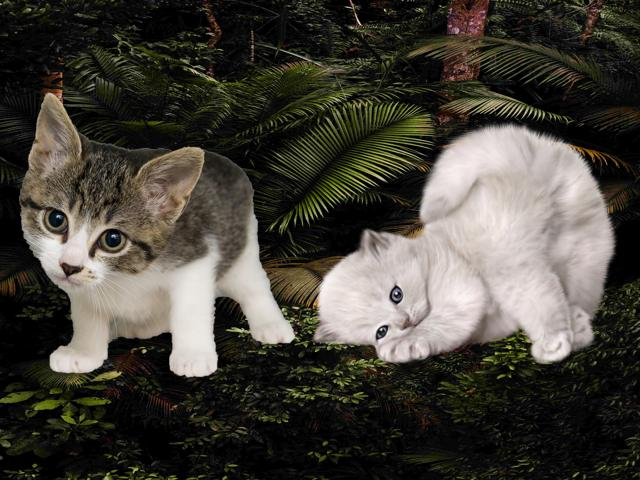cat: (21, 87, 301, 382), (313, 124, 619, 365)
